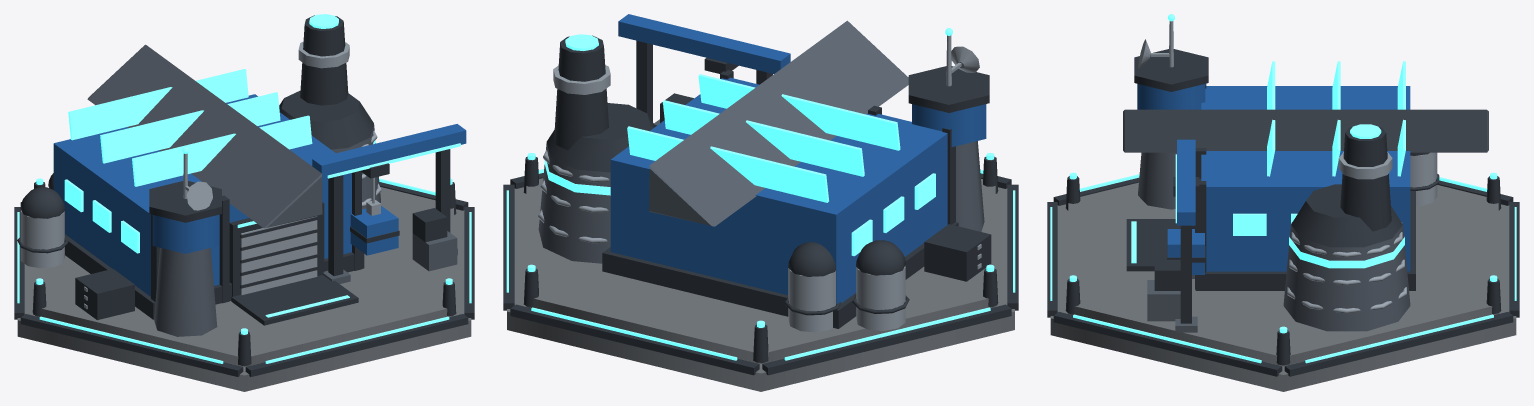
The model's file is factory-building.glb.
3 views of the same model, side by side, from view 1: azimuth 30°, elevation 25°; view 2: azimuth 150°, elevation 25°; view 3: azimuth 270°, elevation 25° (orthographic). The views are drawn at different scales.
Parts seen in each view (by area): view 1: edge_trim_0, base_plate, tooth_slope_0, hall_body, edge_glow_0, door_shutter; view 2: edge_trim_0, hall_body, base_plate, tooth_slope_0, edge_glow_0, door_shutter; view 3: base_plate, edge_trim_0, tooth_slope_0, hall_body, edge_glow_0, door_shutter.
Part boxes in pixels (bbox=[...]): edge_trim_0: bbox=[14, 15, 474, 376]; base_plate: bbox=[17, 187, 471, 391]; tooth_slope_0: bbox=[87, 44, 457, 336]; hall_body: bbox=[53, 94, 466, 296]; edge_glow_0: bbox=[17, 14, 471, 363]; door_shutter: bbox=[20, 41, 381, 308]; edge_trim_0: bbox=[503, 35, 1018, 375]; hall_body: bbox=[610, 14, 986, 304]; base_plate: bbox=[507, 178, 1014, 391]; tooth_slope_0: bbox=[538, 20, 984, 263]; edge_glow_0: bbox=[506, 28, 1015, 360]; door_shutter: bbox=[538, 35, 981, 332]; base_plate: bbox=[1050, 182, 1516, 391]; edge_trim_0: bbox=[1047, 49, 1519, 376]; tooth_slope_0: bbox=[1123, 109, 1488, 332]; hall_body: bbox=[1137, 84, 1410, 274]; edge_glow_0: bbox=[1050, 14, 1516, 363]; door_shutter: bbox=[1138, 21, 1437, 313].
Bounding box in the file's own units: 14.41 × 6.14 × 12.65.
